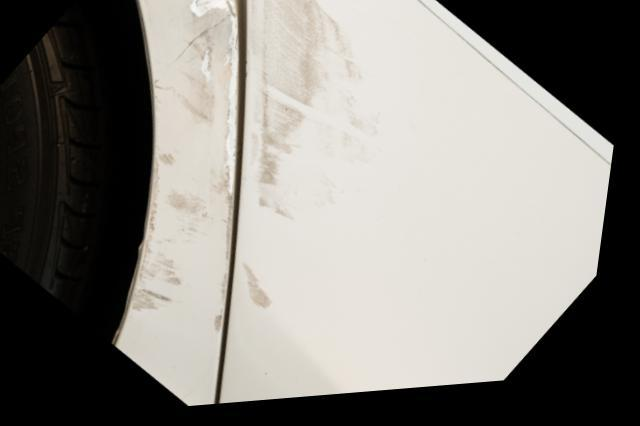scratch: (138, 0, 240, 332), (249, 0, 384, 230), (248, 267, 277, 314)
